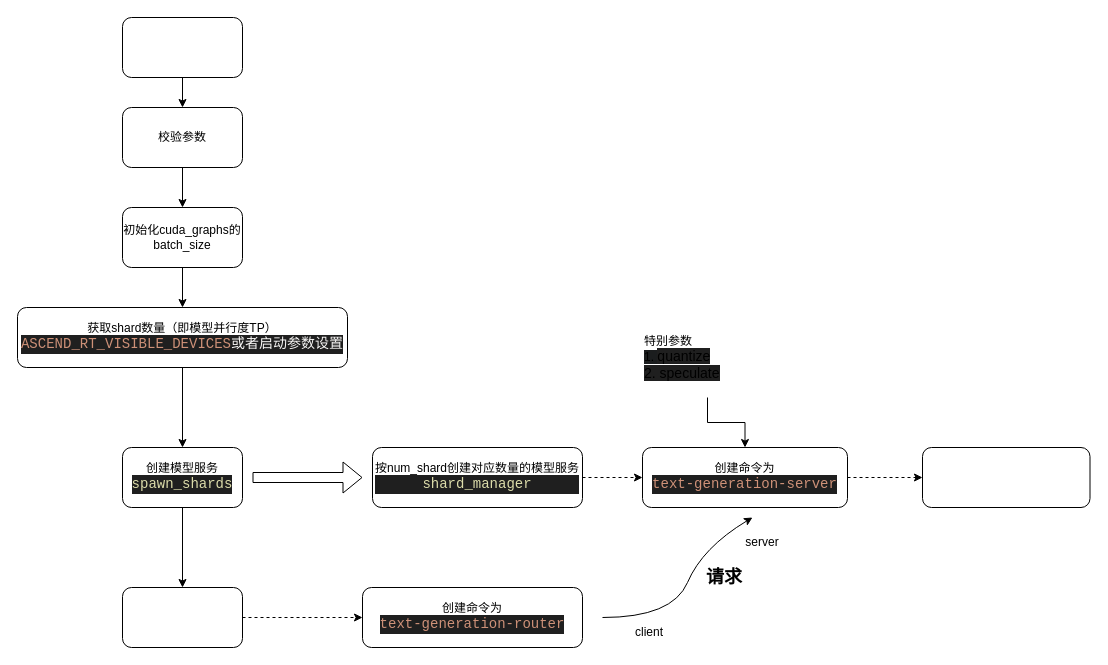
Image size: 1108x665. Some labels were removed from this diagram. Here are the shapes that lost their labels. From the top down, the box of each, then its label:
(122, 16, 242, 78): 服务启动入口 launcher/main.rs
(922, 446, 1090, 508): 通过pyproject.toml链到 text-generate-server/server.py
(122, 586, 242, 648): 创建请求服务 spawn_webserver
